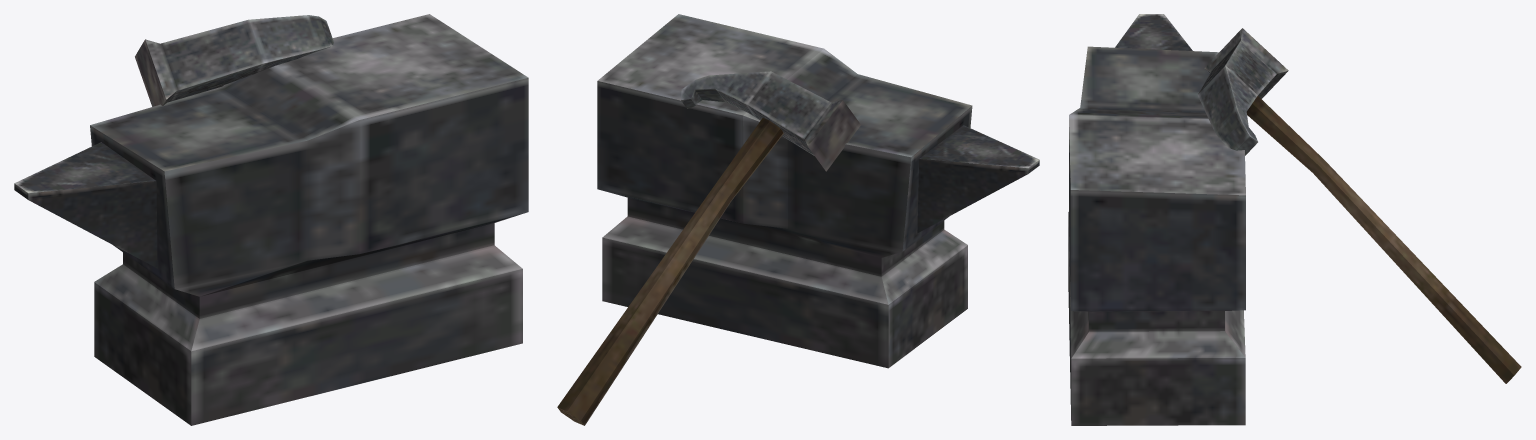
The model's file is 铁匠铺-打铁石01.fbx.
3 renders of one model, left to right at view 1: azimuth 30°, elevation 25°; view 2: azimuth 150°, elevation 25°; view 3: azimuth 270°, elevation 25°, orthographic. The views are drawn at different scales.
Parts seen in each view (by area): view 1: qingmo_obj_030 [10484246]; view 2: qingmo_obj_030 [10484246]; view 3: qingmo_obj_030 [10484246].
Part boxes in pixels (box(x1,y1,x2,y2)): qingmo_obj_030 [10484246]: box(14, 14, 528, 425); qingmo_obj_030 [10484246]: box(557, 14, 1039, 425); qingmo_obj_030 [10484246]: box(1068, 14, 1521, 425).
Size of the model in its own units: 11.23 by 10.58 by 7.34.
1 material, 1 textured.
